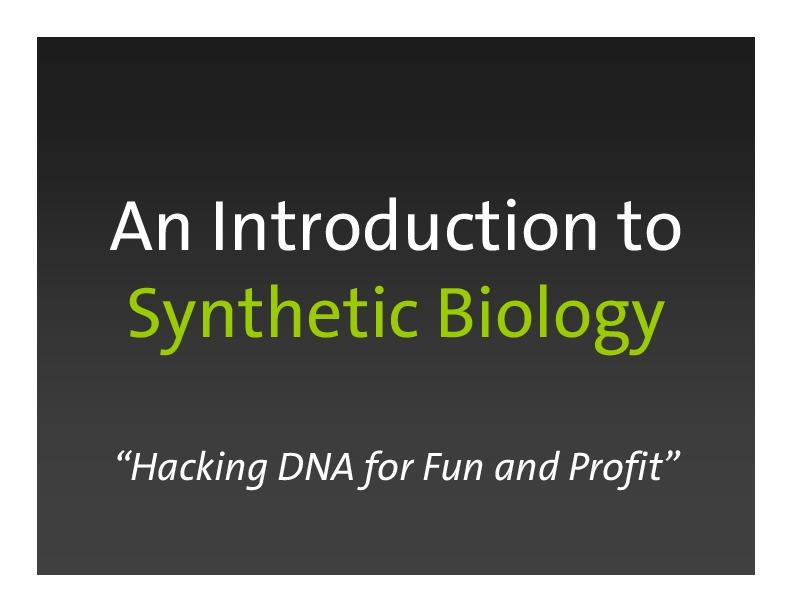subtitle: (108, 420, 705, 516)
title: (87, 162, 711, 371)
